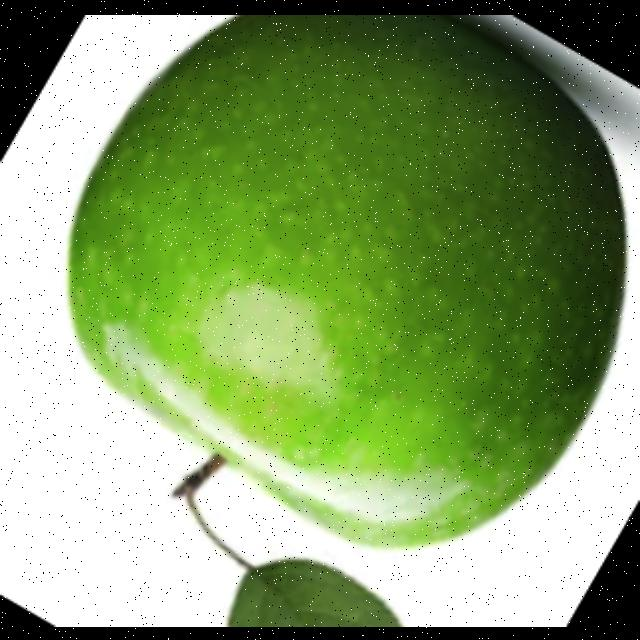Apel Segar: (65, 14, 630, 553)
